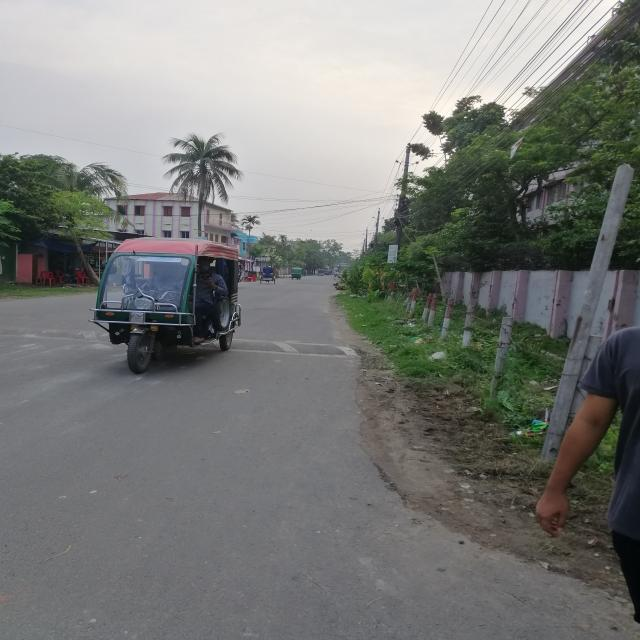Easybike: (78, 241, 250, 376)
